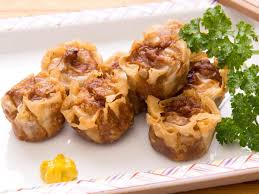Pangsit goreng: (145, 92, 220, 161), (118, 36, 192, 105), (68, 71, 134, 147), (4, 74, 67, 142), (41, 38, 102, 77), (186, 53, 228, 102)
